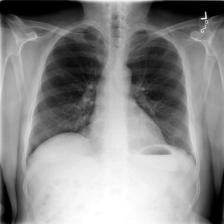normal: (24, 23, 200, 181)
